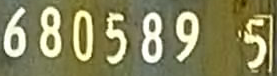eight: (40, 7, 64, 59), (142, 13, 165, 66)
five: (106, 13, 129, 67), (245, 19, 268, 69)
nine: (175, 12, 201, 64)
six: (4, 9, 28, 59)
zero: (75, 11, 95, 63)
